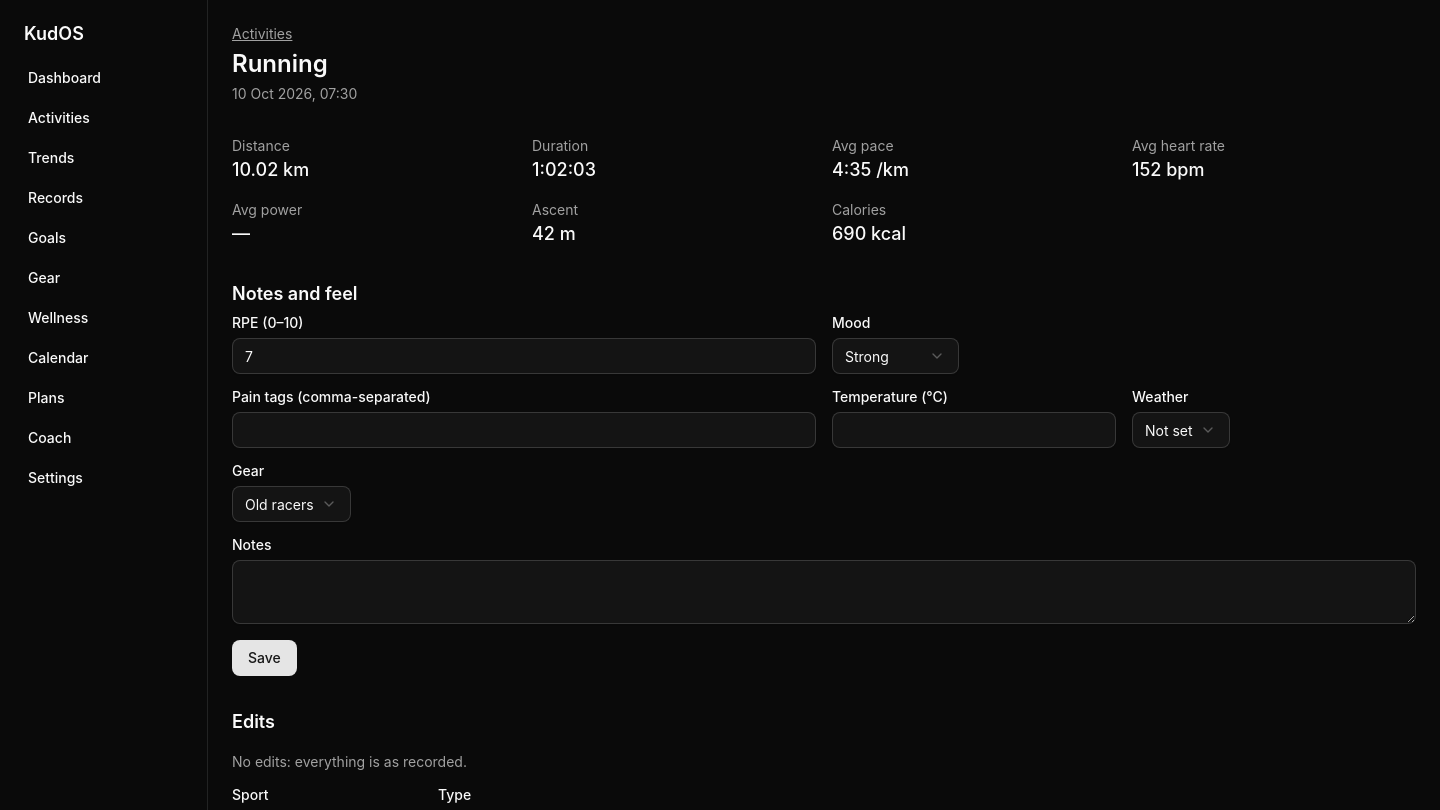
Test: ActivityDetailPage › notes and feel › assigns gear, offering retired gear only where it is assigned
Step 1. Select "Trainers" in the dropdown labelled "Gear" → (292, 504), box [232, 486, 351, 522]
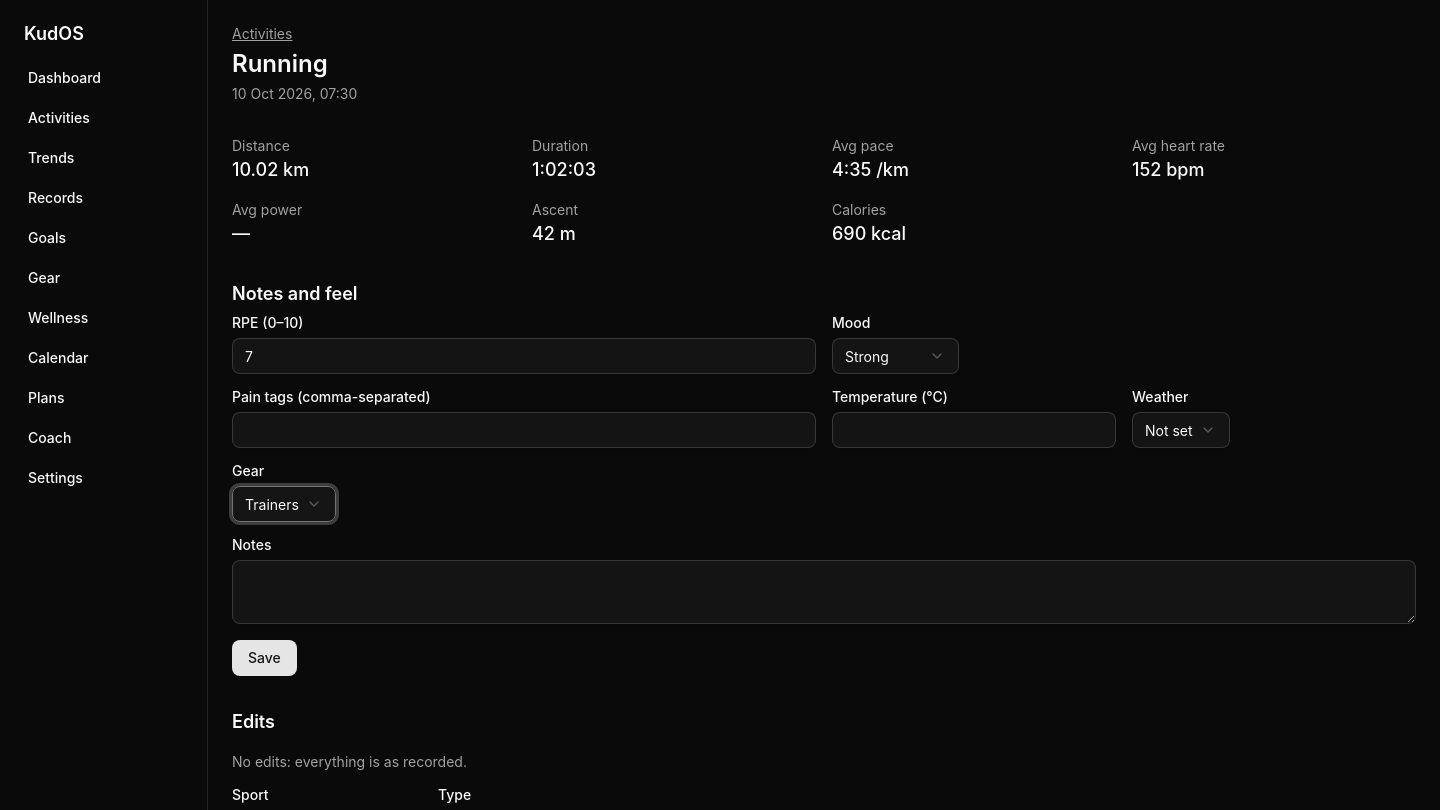
Step 2. Click the button "Save" → (264, 658), box [232, 640, 297, 676]
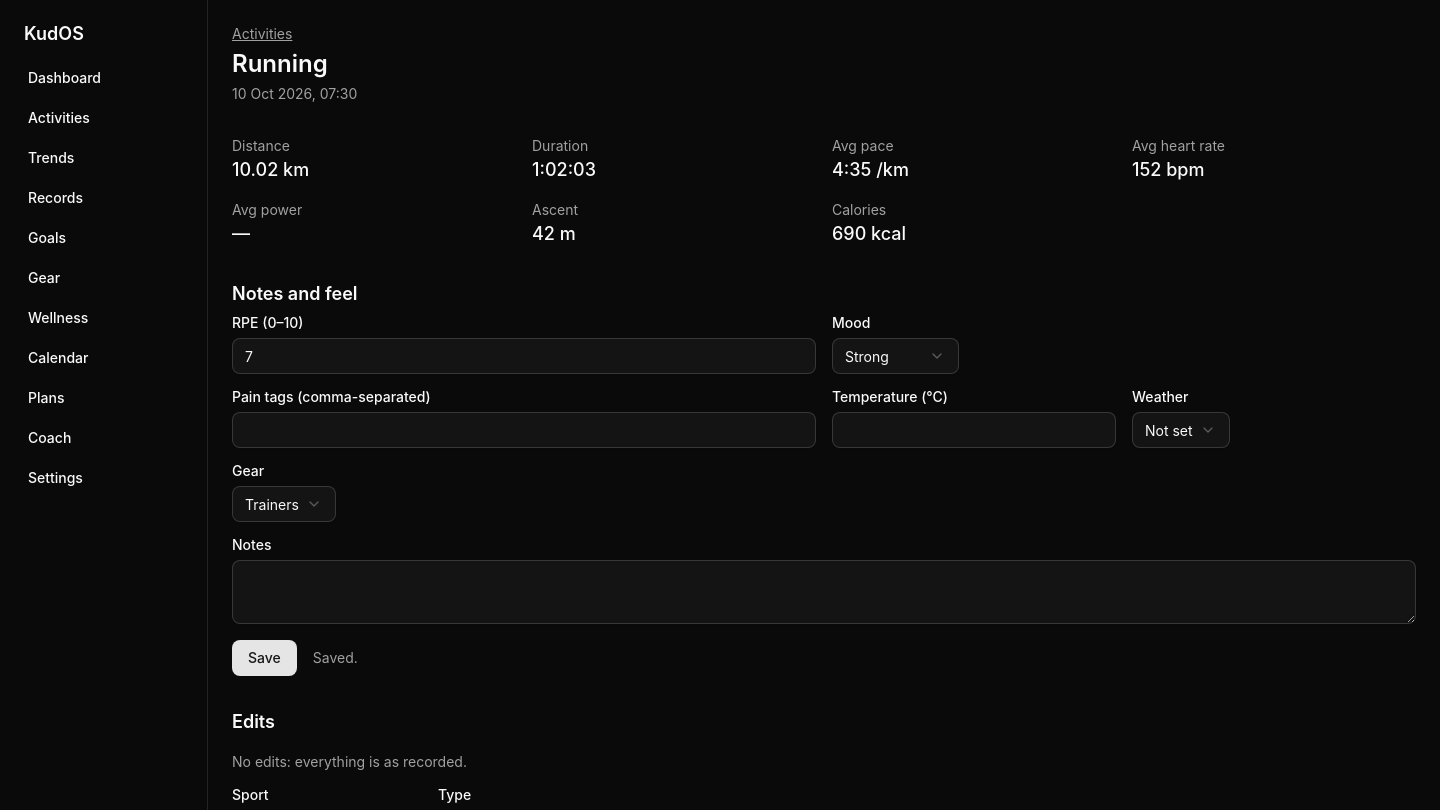
Expected: the text "Saved." is shown, [313, 648, 358, 668]
